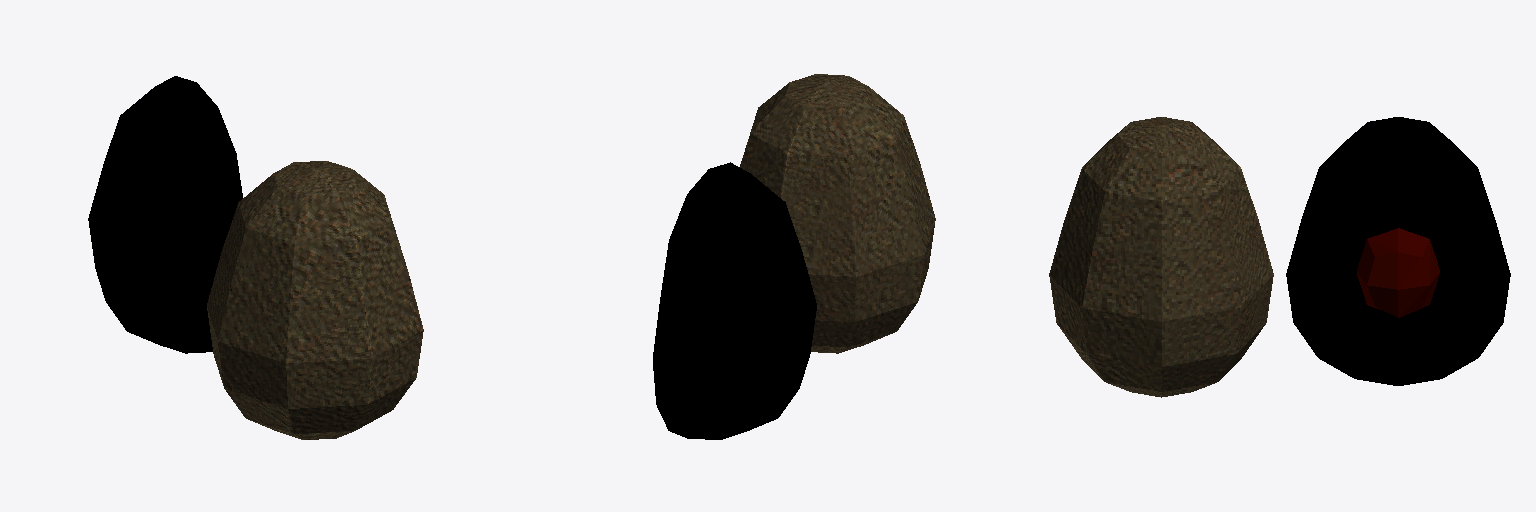
The picture shows the model from 3 angles: view 1: azimuth 30°, elevation 25°; view 2: azimuth 150°, elevation 25°; view 3: azimuth 270°, elevation 25°; orthographic projection.
Size of the model in its own units: 1.97 by 2.53 by 4.05.
3 materials, 1 textured.